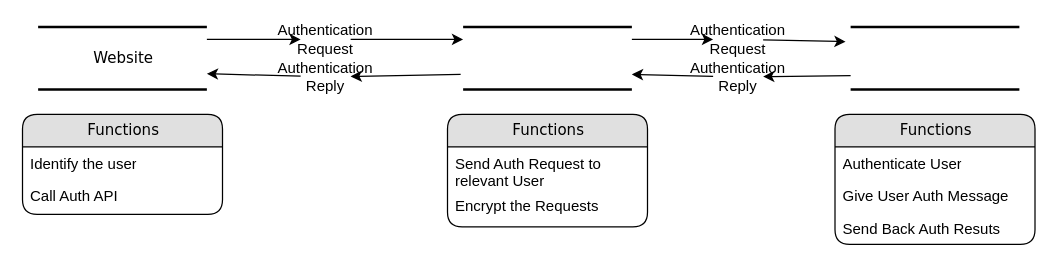
Some shapes in this 1056 by 270 pixel diagram are drawn without their labels. Each missing label, with the centre of its shape:
"API" belongs at pixel 546 57.
"APP" belongs at pixel 934 57.
